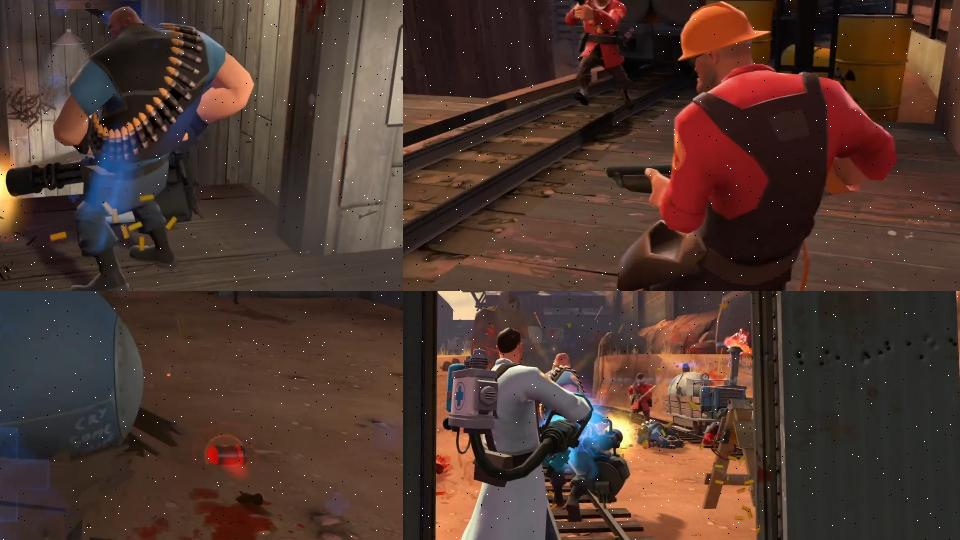Enemy: (577, 0, 900, 291), (4, 2, 257, 291), (431, 323, 593, 540), (536, 344, 632, 517), (564, 0, 637, 111), (628, 369, 655, 425), (635, 421, 685, 450), (727, 327, 751, 368), (197, 291, 245, 308)
